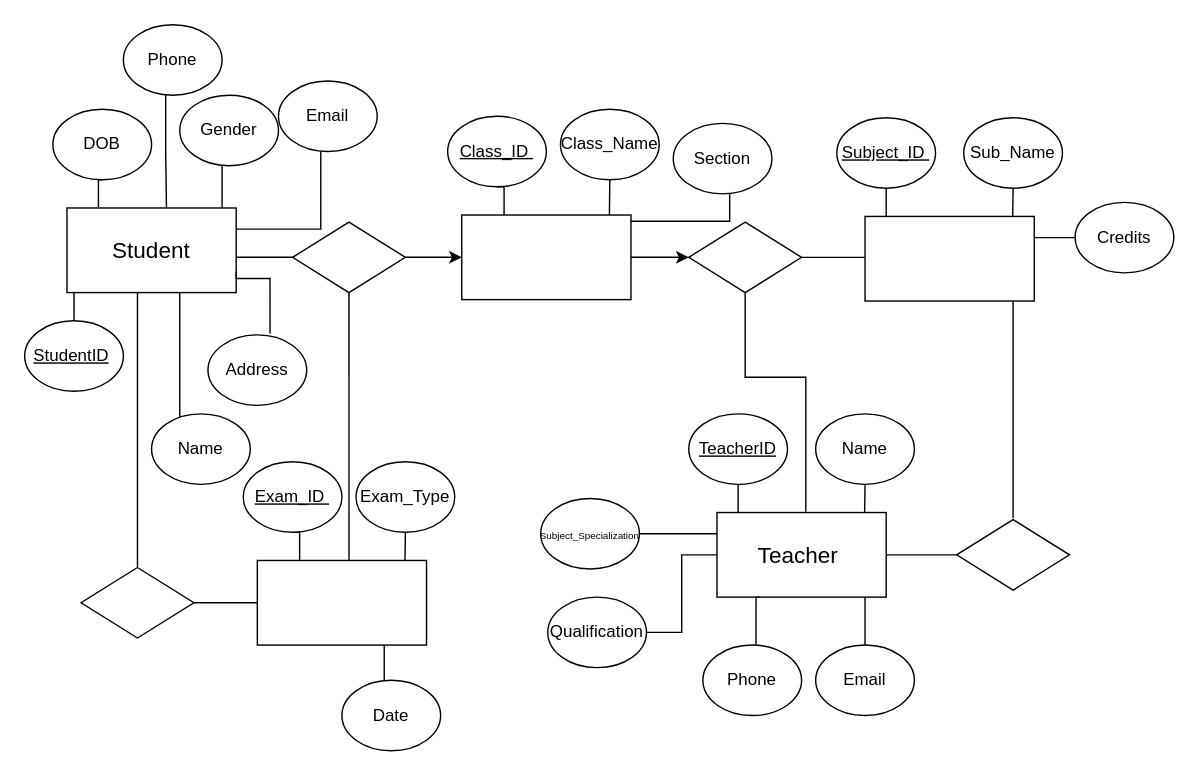
Some shapes in this 1199 by 776 pixel diagram are drawn without their labels. The centre of each missing label's shape, as x and y in pixels:
"Appears" belongs at (x=137, y=602).
"Class" belongs at (x=545, y=257).
"Enrolled In" belongs at (x=348, y=257).
"Exam" belongs at (x=341, y=602).
"has" belongs at (x=744, y=257).
"Subject" belongs at (x=949, y=258).
"Teaches" belongs at (x=1012, y=554).
